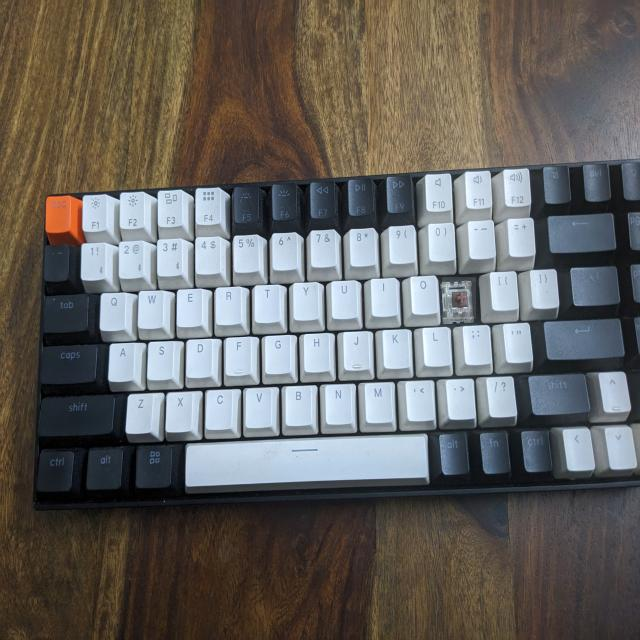C: (442, 278, 476, 320)
